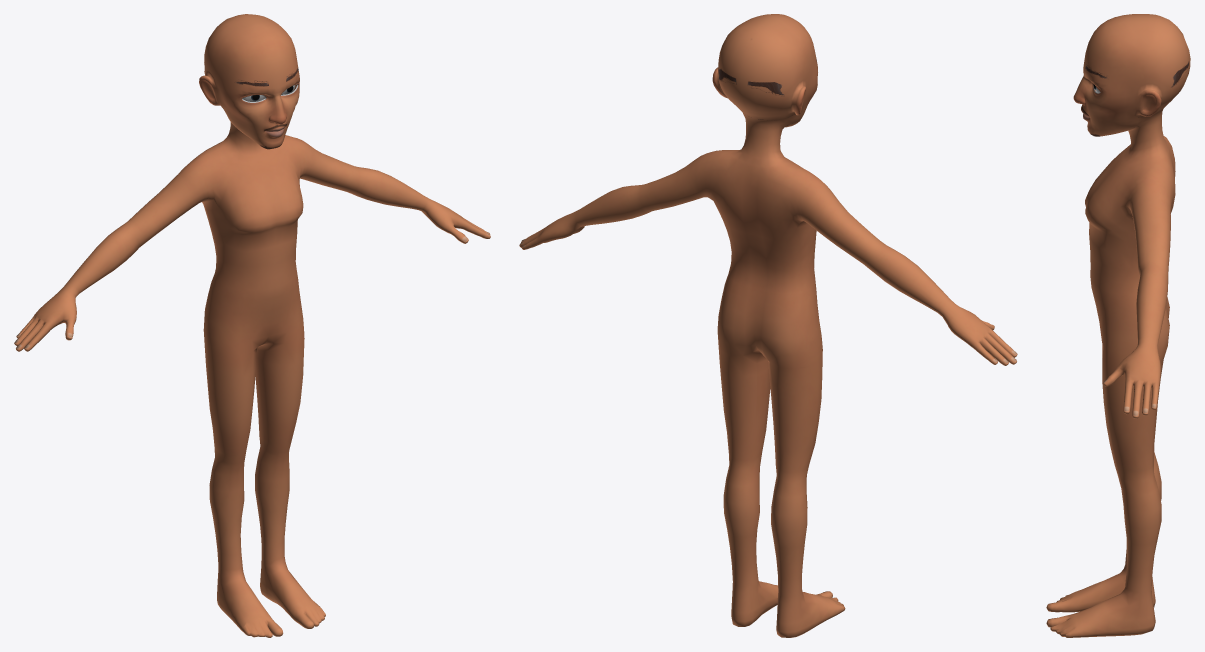
The model's file is frame_0006.glb.
The picture shows the model from 3 angles, left to right: view 1: azimuth 30°, elevation 25°; view 2: azimuth 150°, elevation 25°; view 3: azimuth 270°, elevation 25°; orthographic projection. The views are drawn at different scales.
Parts seen in each view (by area): view 1: frame_0006_head_geo; view 2: frame_0006_head_geo; view 3: frame_0006_head_geo.
Boxes of the visible parts, x1,y1,x2,y2 form: frame_0006_head_geo: [14, 14, 490, 637]; frame_0006_head_geo: [519, 14, 1017, 637]; frame_0006_head_geo: [1046, 14, 1190, 637].
Bounding box in the file's own units: 1.28 × 1.5 × 0.3253.
Materials: 4 (2 with a texture image).
